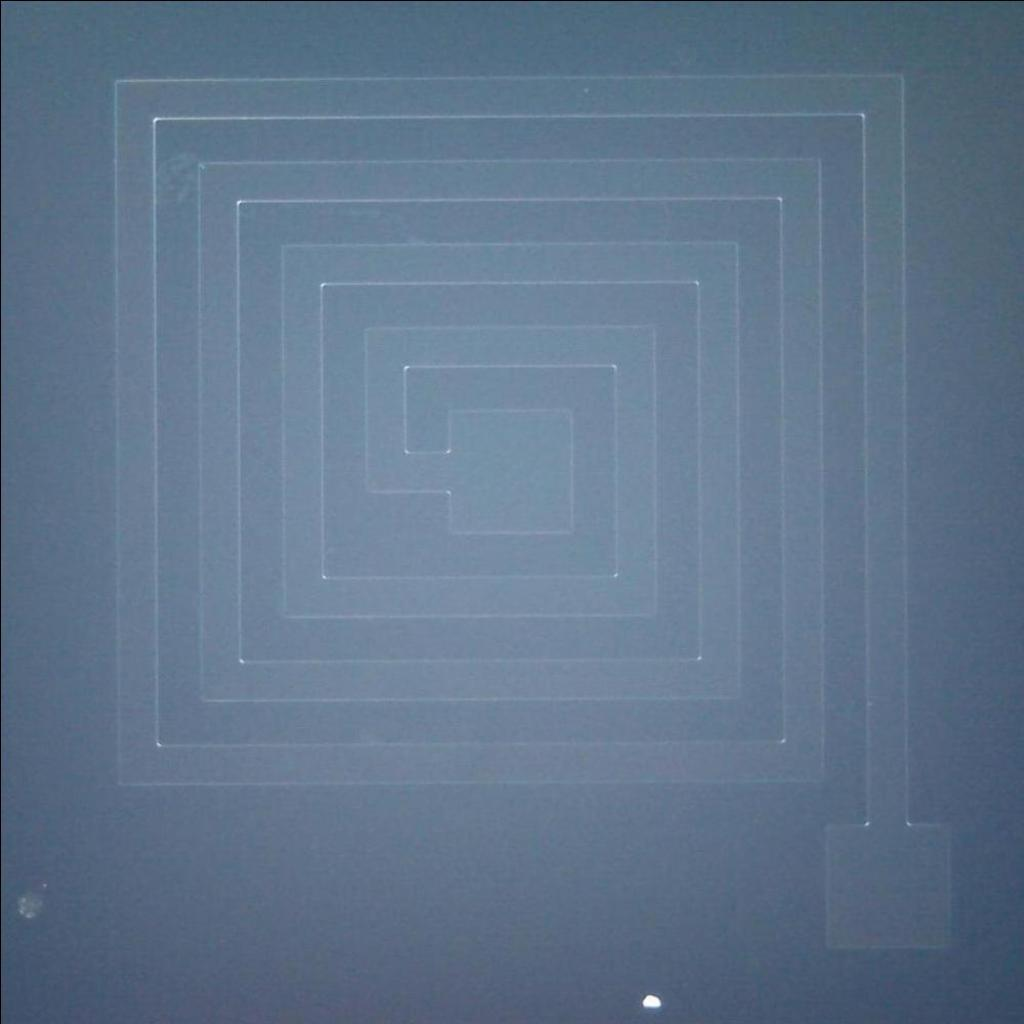spot: (636, 988, 667, 1012)
